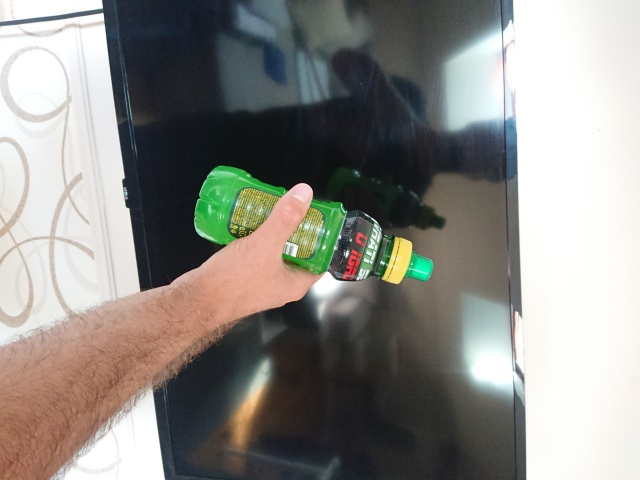Vindi Iso Sport Lemon-Grapefruit 500mL: (191, 163, 436, 287)
